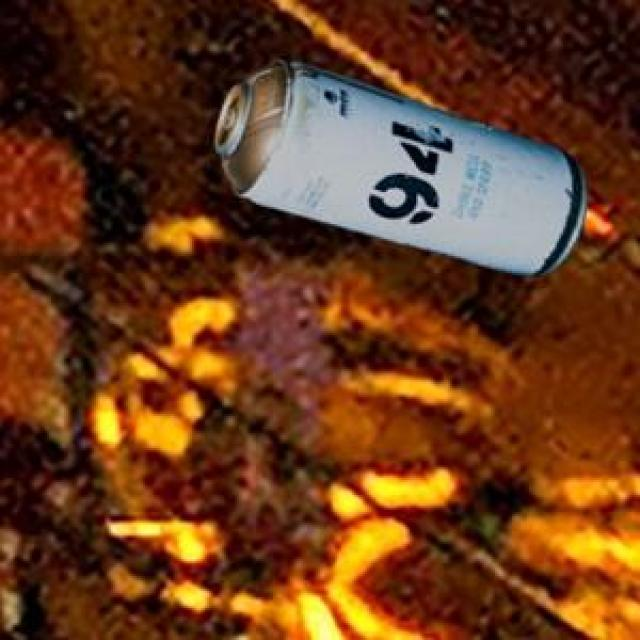Can: (212, 57, 583, 272)
